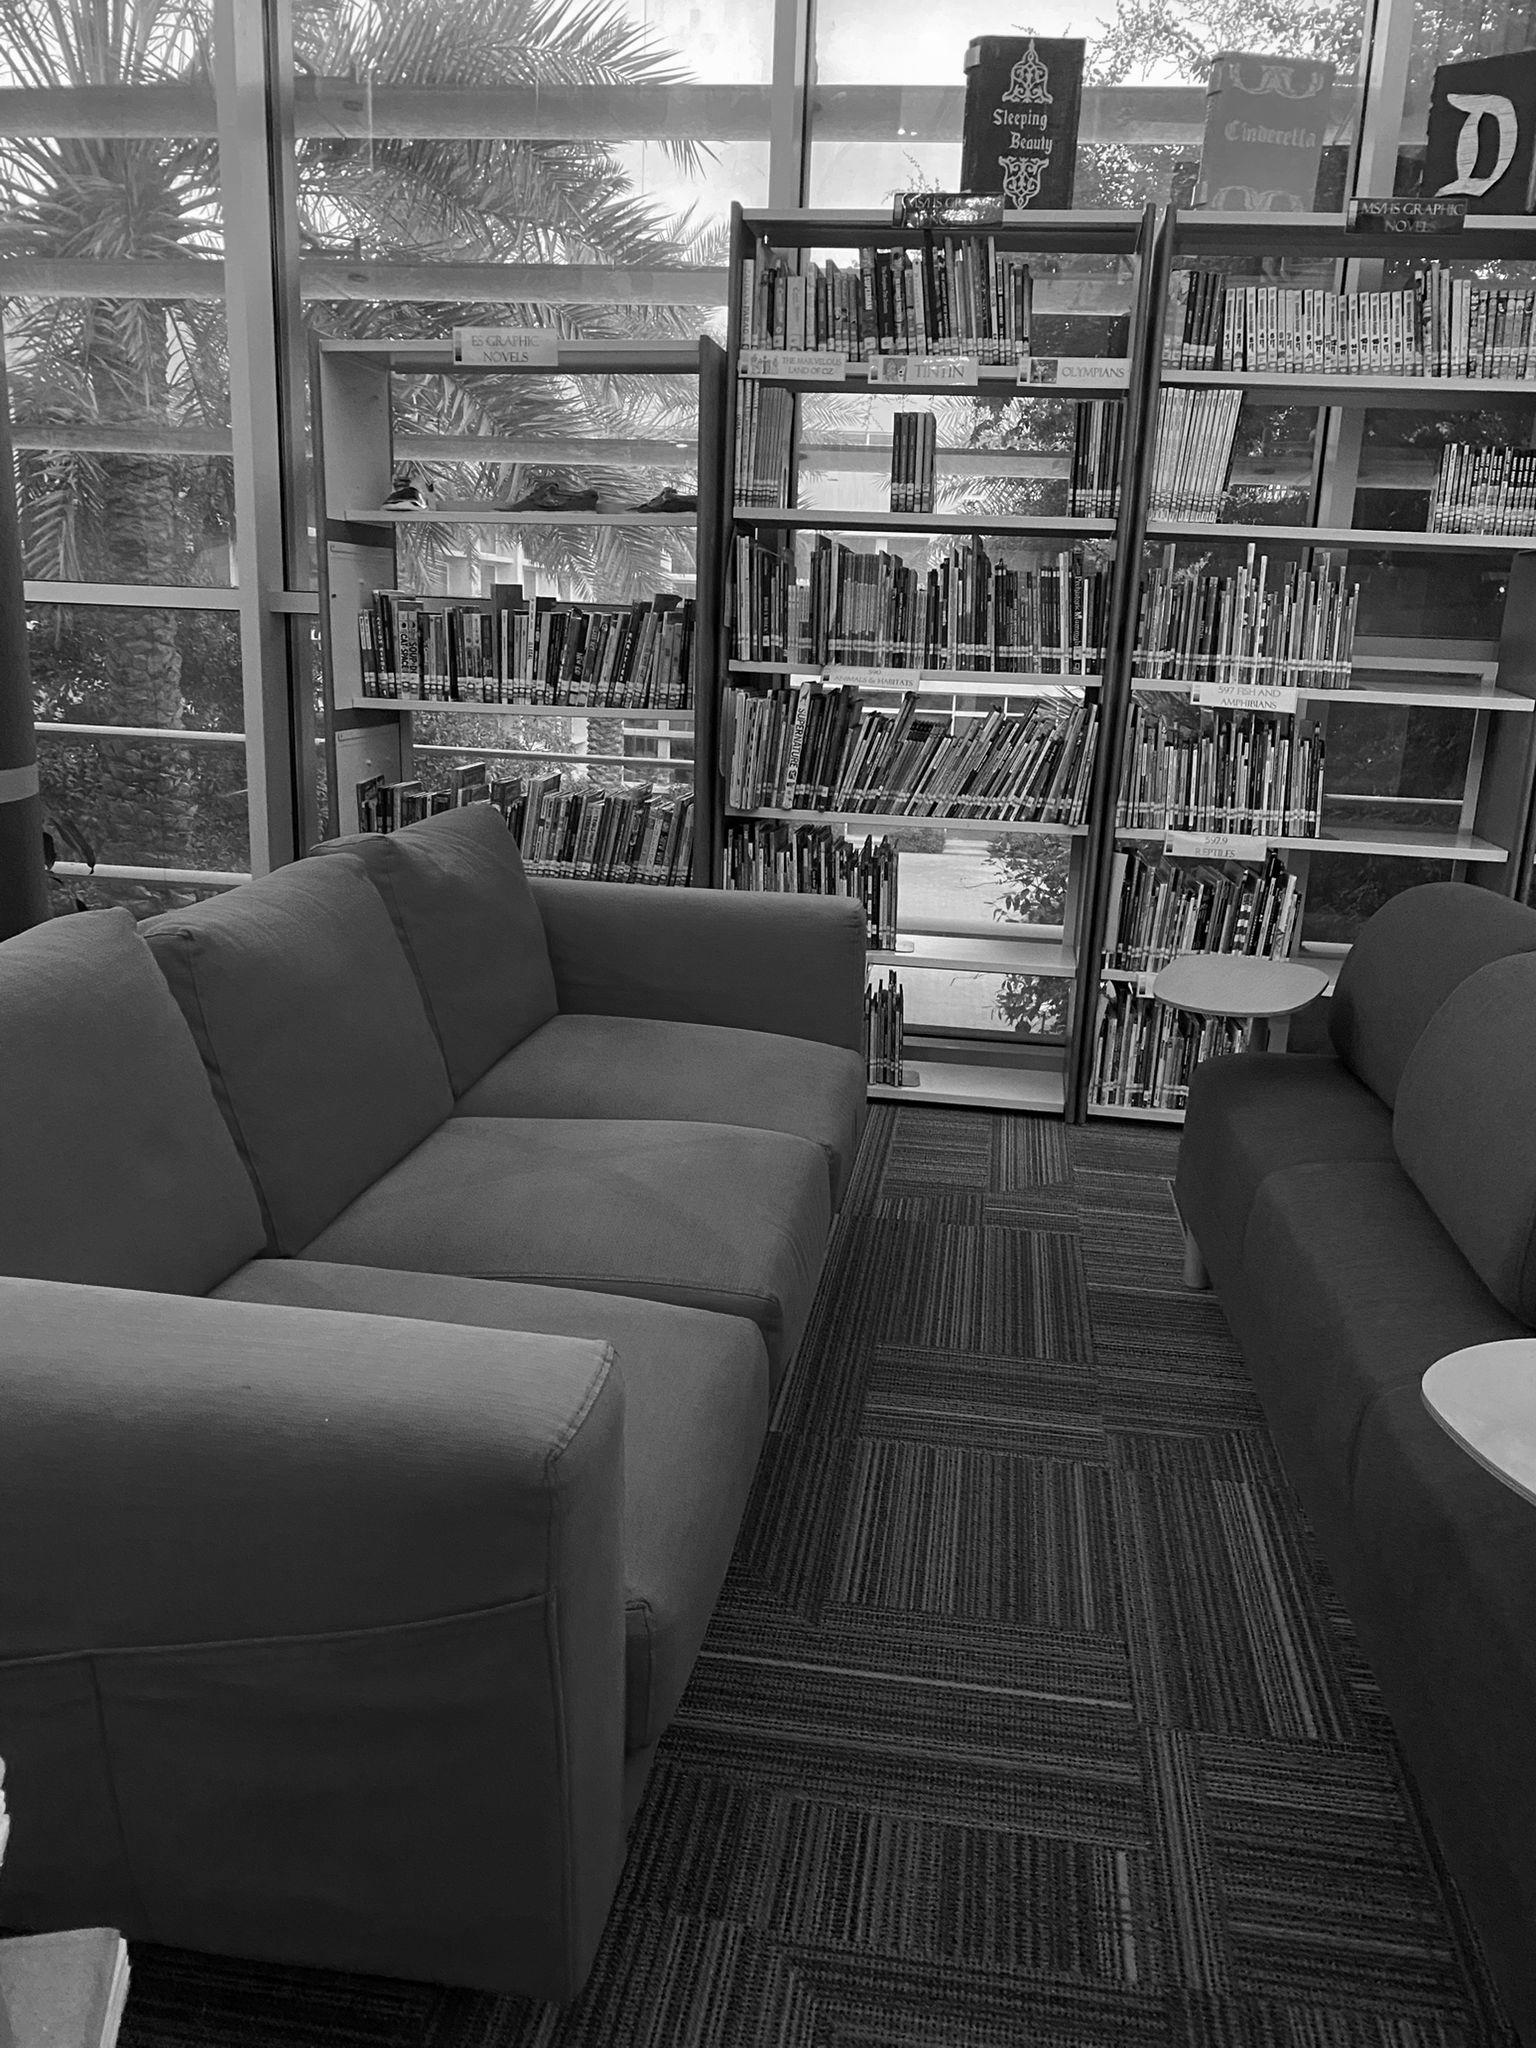Couch: (0, 806, 866, 2000), (1176, 885, 1534, 2038)
